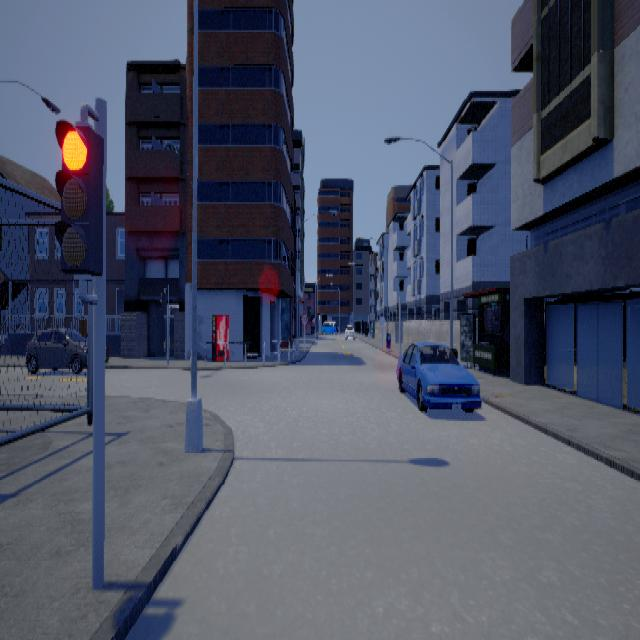red_light: (56, 101, 105, 303)
traffic_sign: (302, 312, 309, 324)
vehicle: (397, 340, 484, 411), (27, 327, 88, 372)
